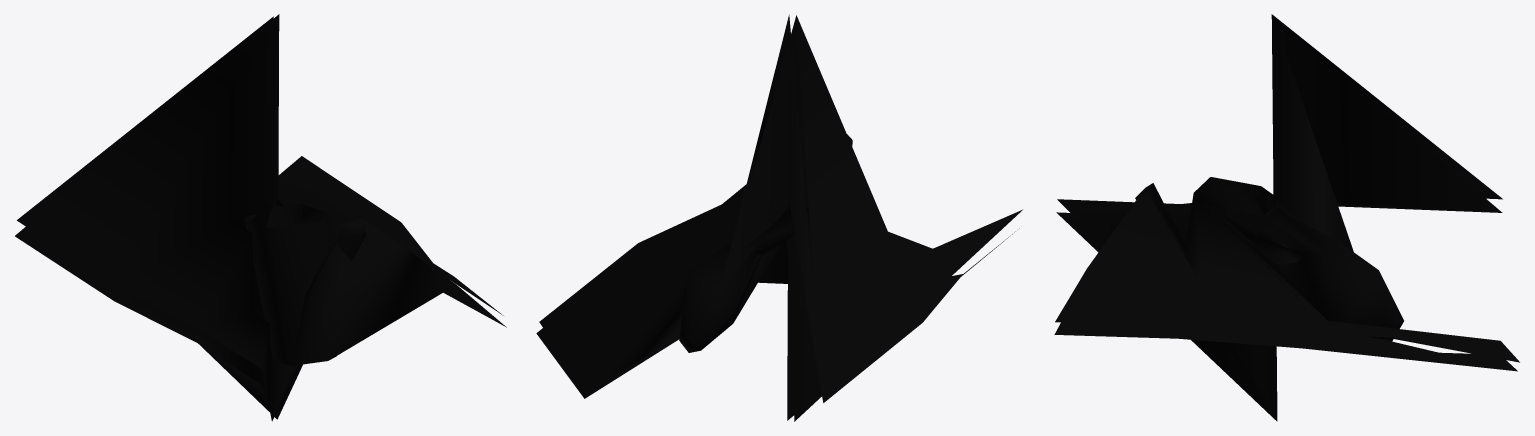
The picture shows the model from 3 angles, left to right: view 1: azimuth 30°, elevation 25°; view 2: azimuth 150°, elevation 25°; view 3: azimuth 270°, elevation 25°; orthographic projection.
Visible parts, largest first — view 1: T1L2M005_12; view 2: T1L2M005_12; view 3: T1L2M005_12.
Boxes of the visible parts, left/top/right/bottom form: T1L2M005_12: left=15, top=14, right=506, bottom=421; T1L2M005_12: left=536, top=14, right=1022, bottom=421; T1L2M005_12: left=1054, top=14, right=1519, bottom=421.
Size of the model in its own units: 0.3575 by 0.4805 by 0.5013.
